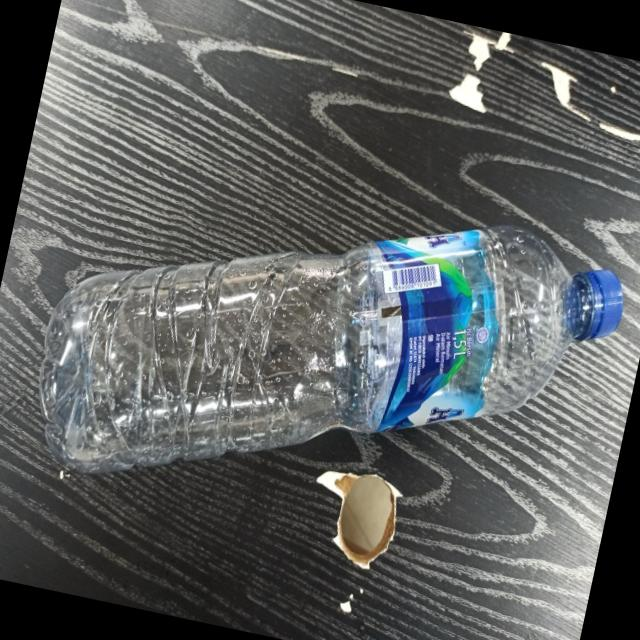BotolPlastik: (17, 132, 636, 578)
